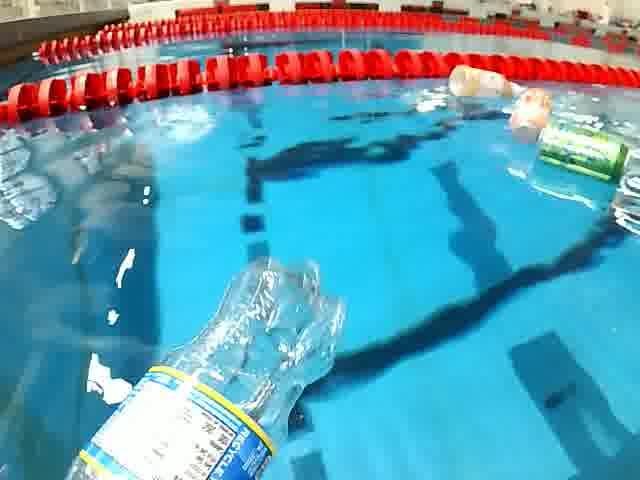Bottle: (57, 251, 354, 480), (443, 62, 527, 102), (506, 85, 554, 151)
Can: (526, 123, 632, 185)
